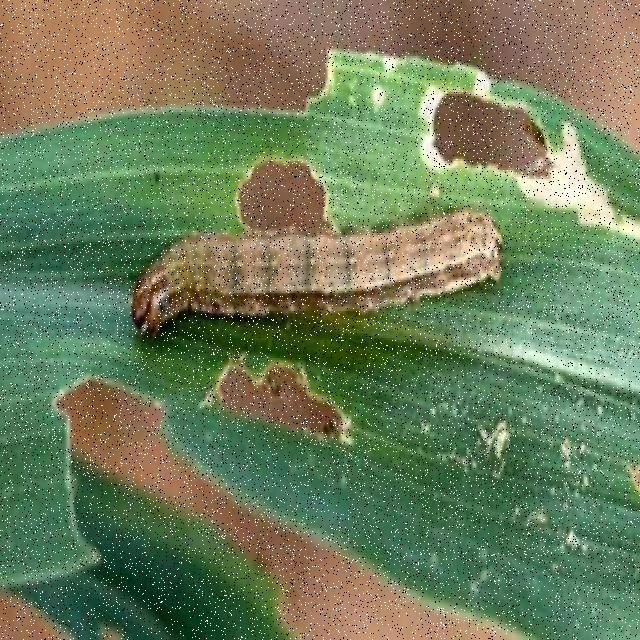army worm: (119, 153, 530, 392)
